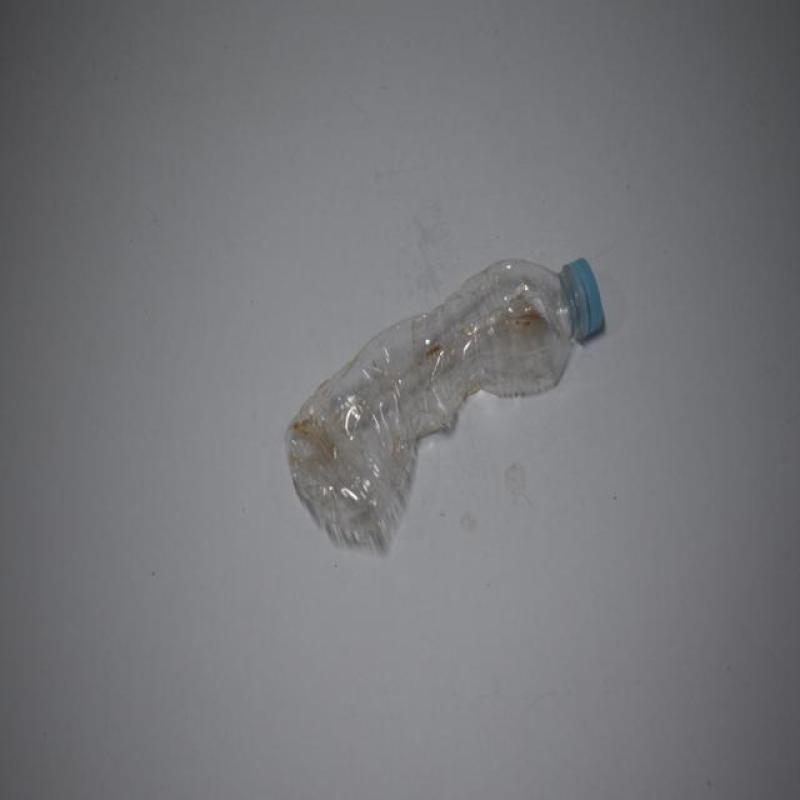botella: (279, 254, 607, 538)
